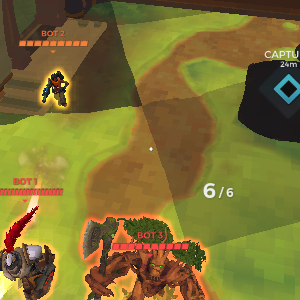model: (77, 212, 217, 299), (1, 225, 55, 298), (39, 65, 70, 117)
